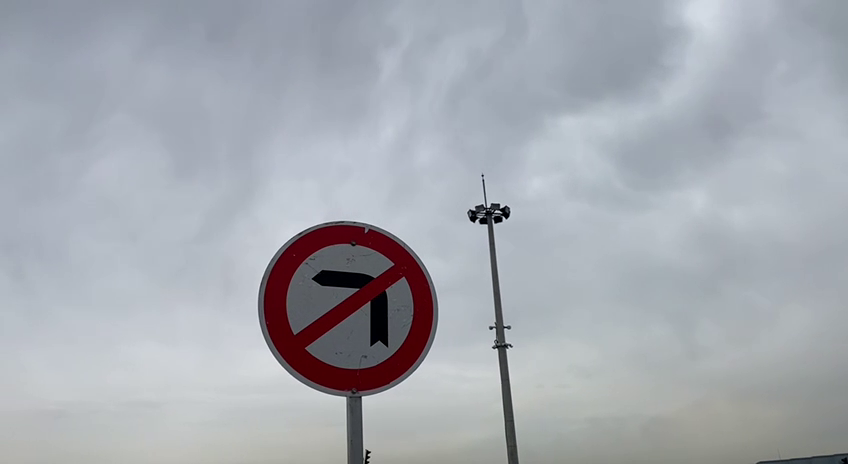noTurnLeft: (251, 215, 446, 406)
